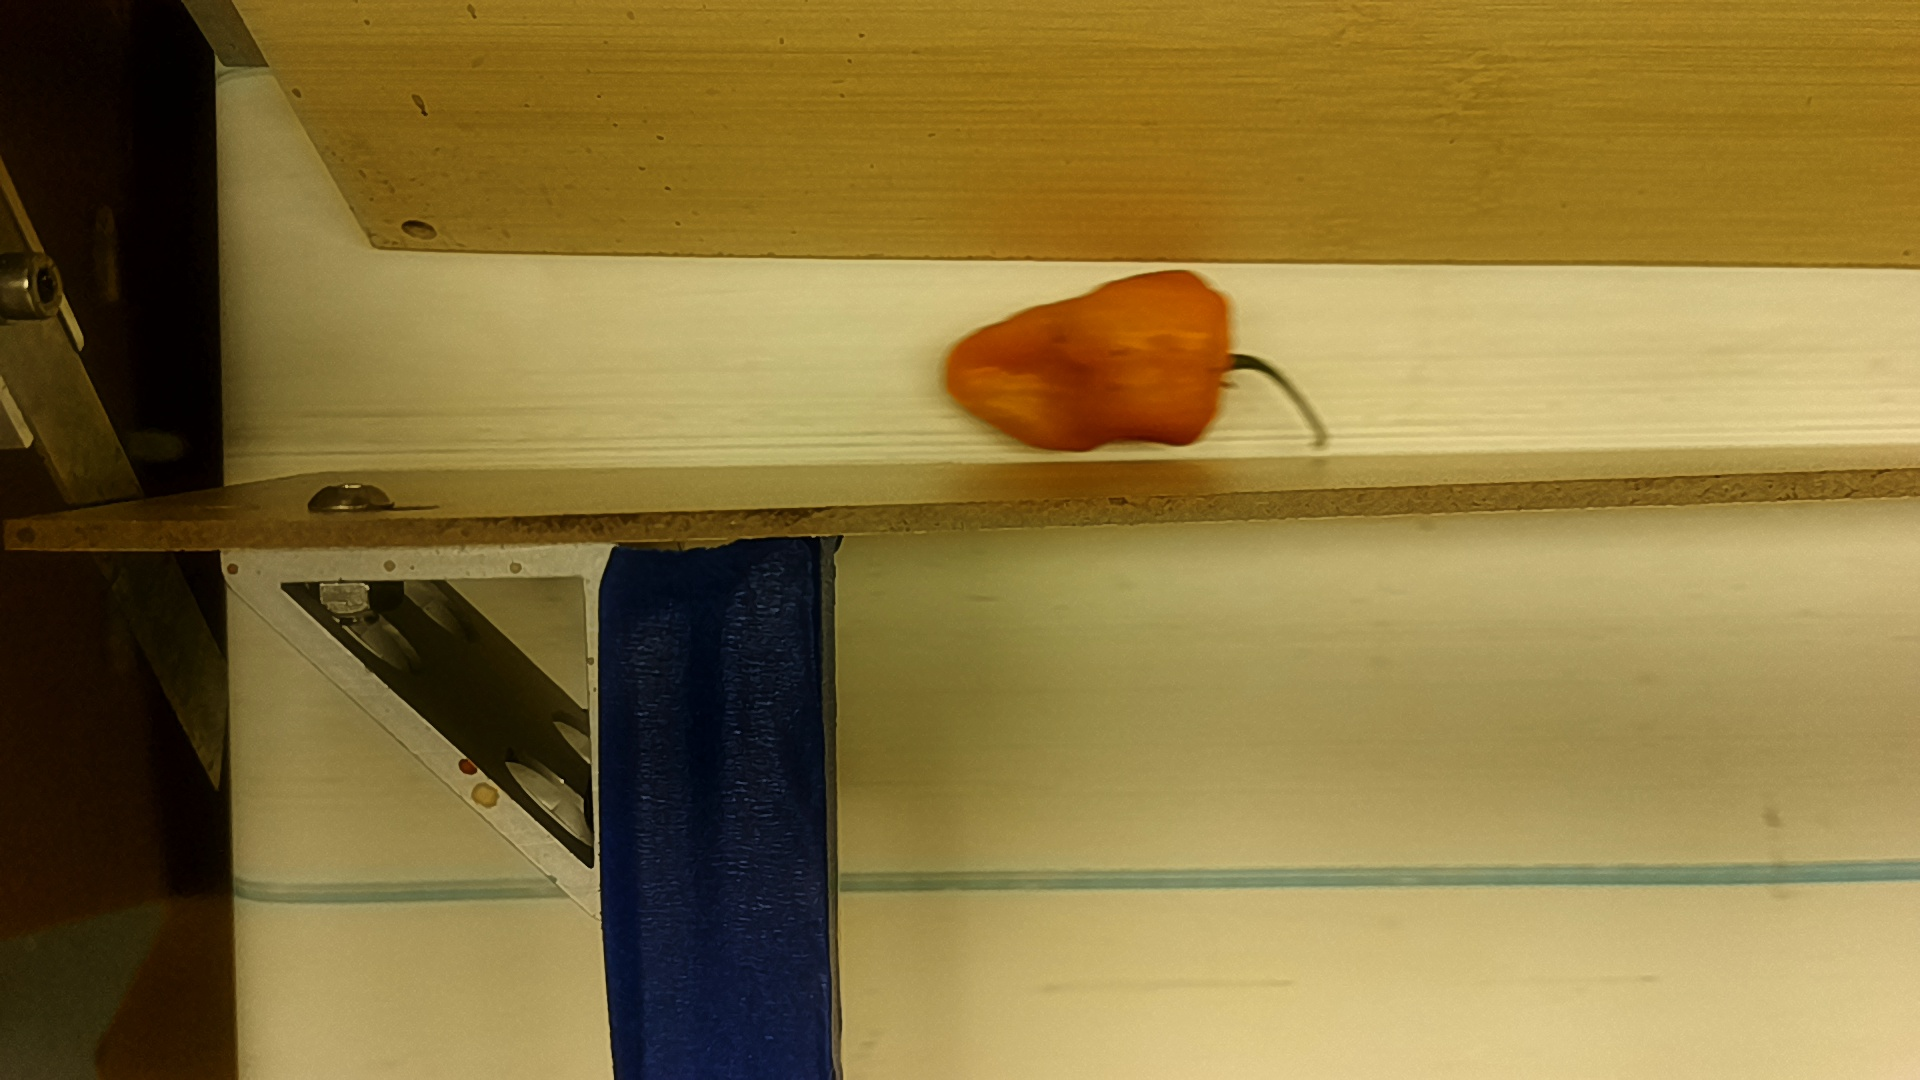Cut Point: (1192, 262, 1242, 454)
